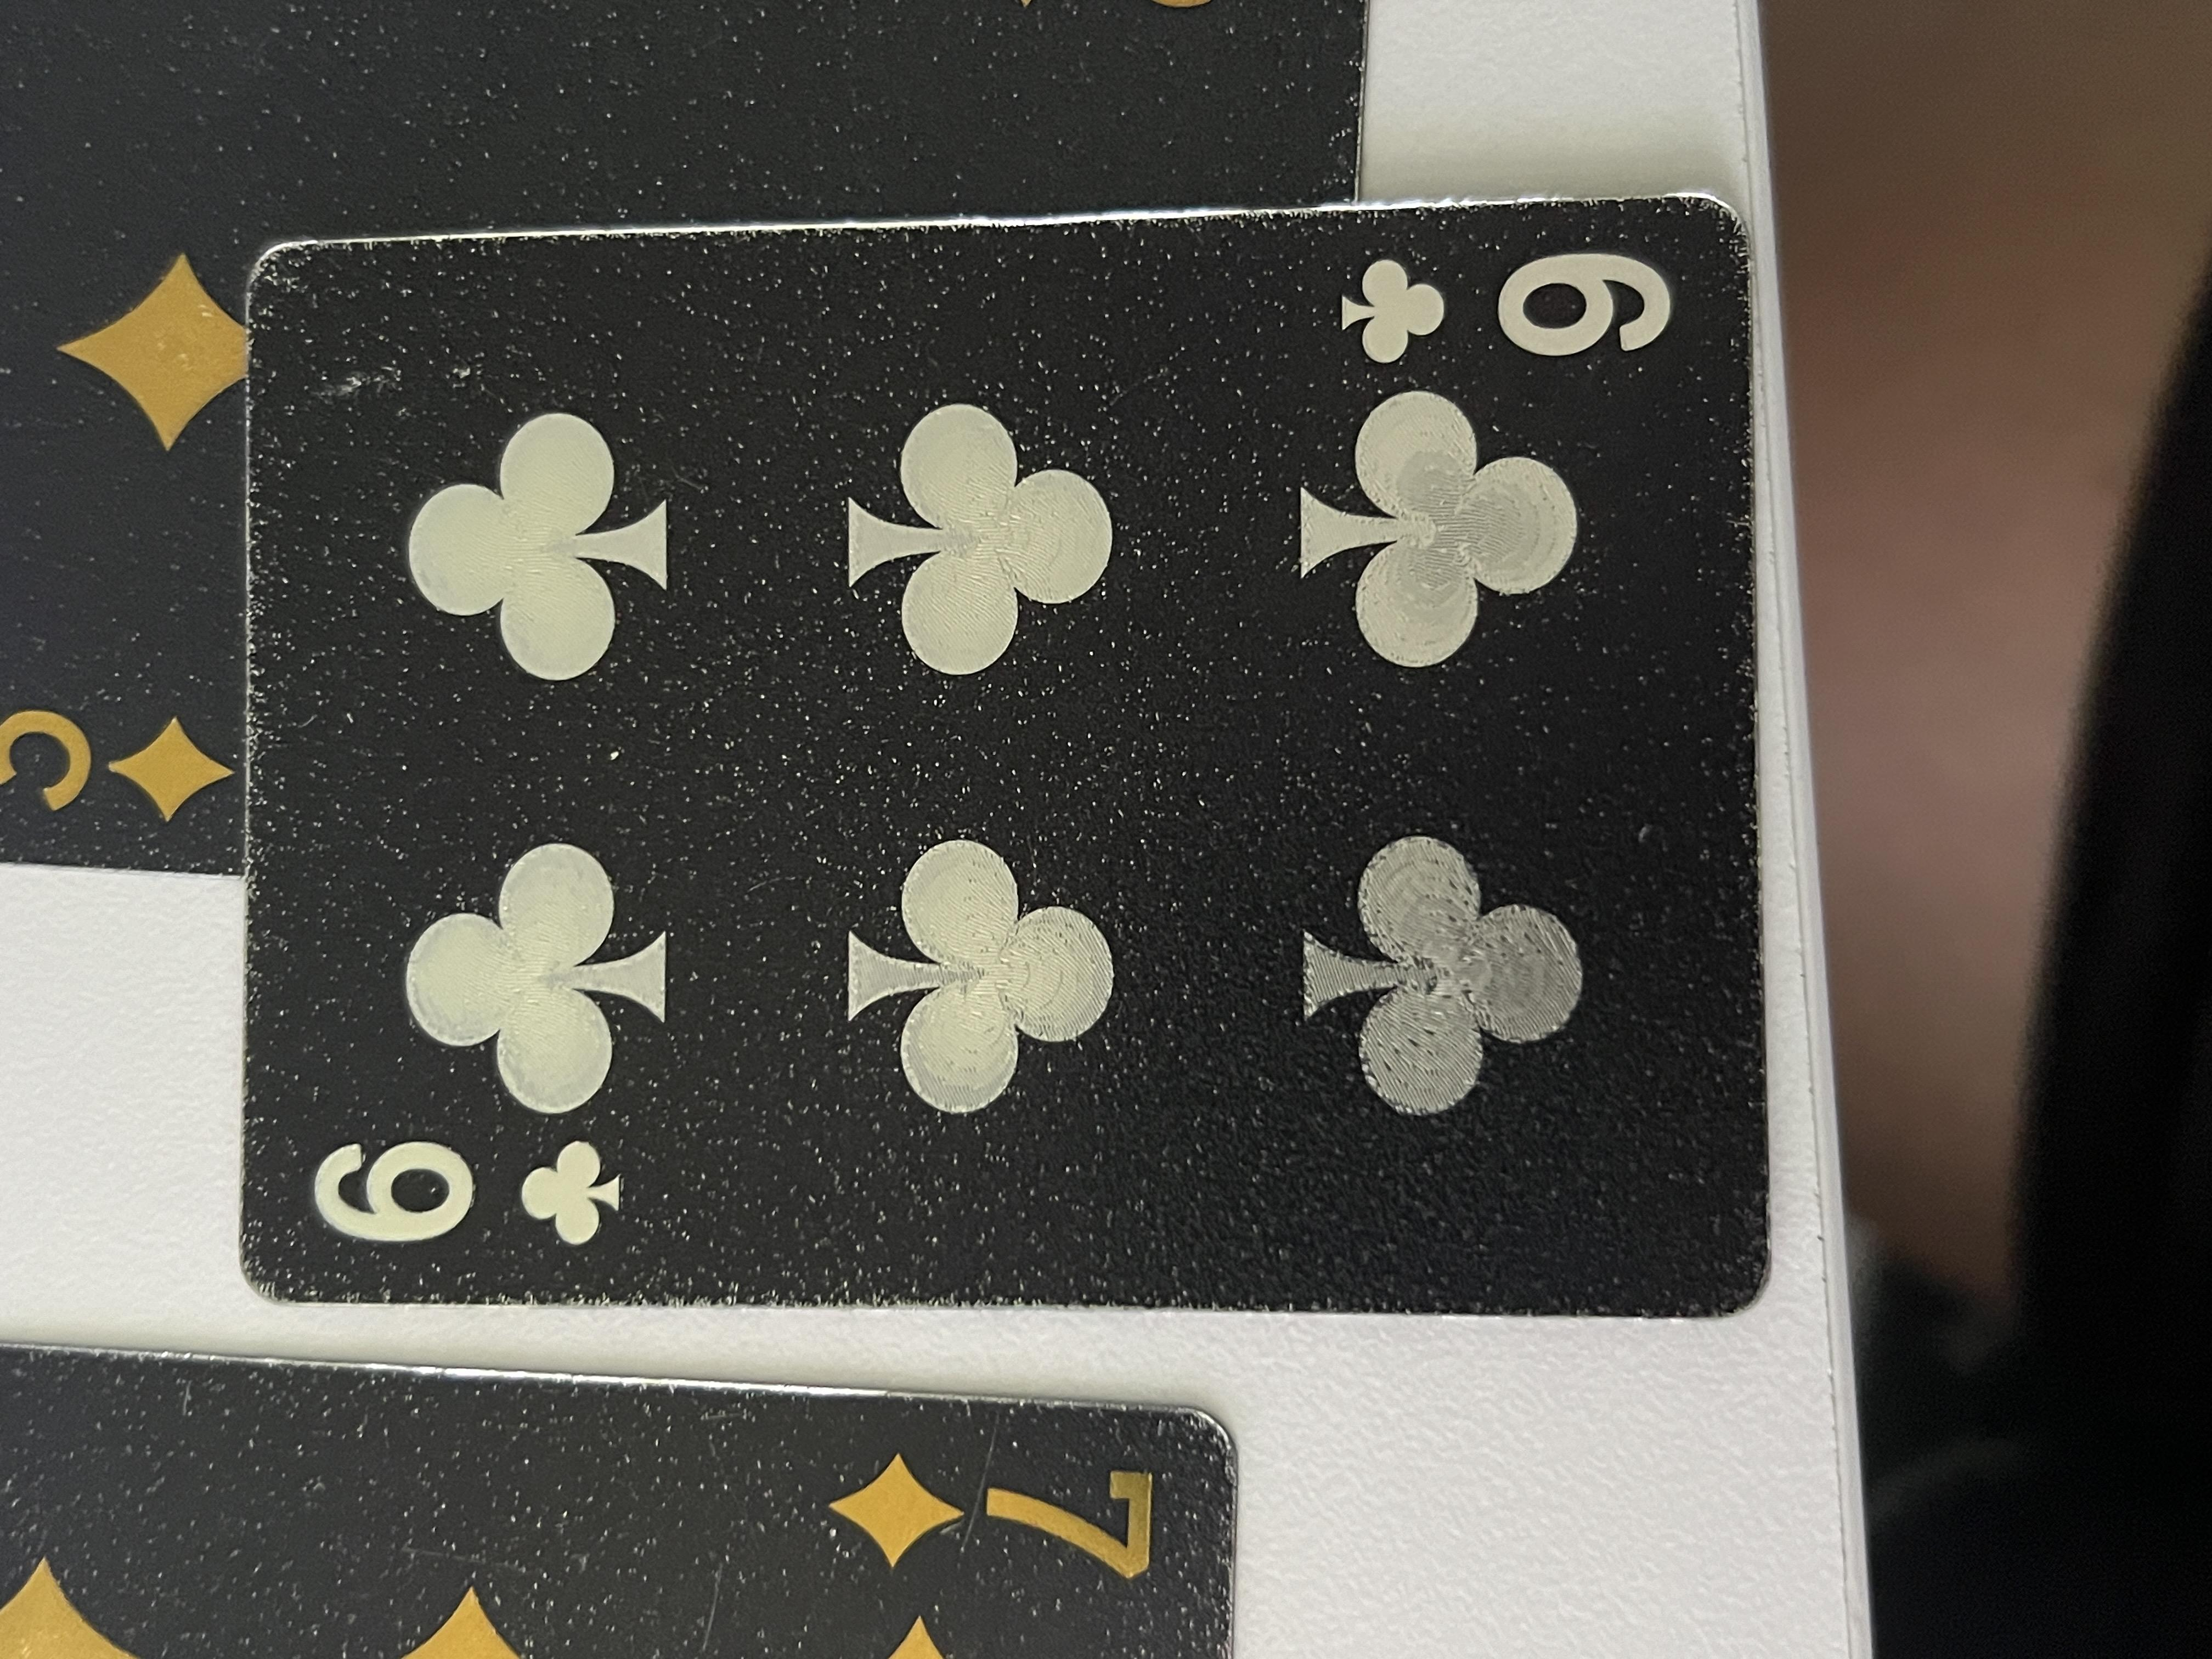6C: (1712, 999, 1898, 1267), (538, 232, 702, 465)
7D: (99, 613, 293, 877)
